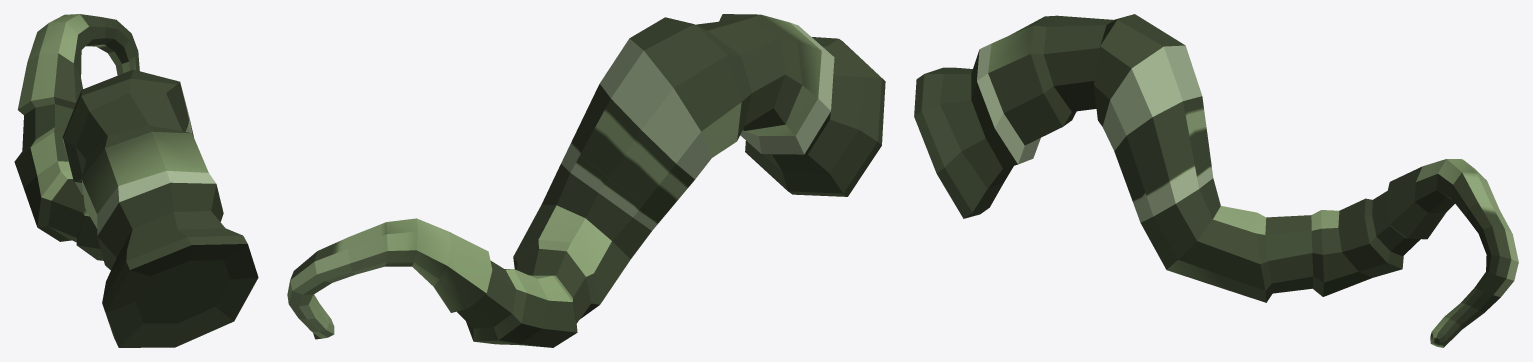
File: EA_Swamp_Root_01a.glb
3 renders of one model, left to right at view 1: azimuth 30°, elevation 25°; view 2: azimuth 150°, elevation 25°; view 3: azimuth 270°, elevation 25°, orthographic. The views are drawn at different scales.
Parts seen in each view (by area): view 1: EA_Swamp_Root_01a; view 2: EA_Swamp_Root_01a; view 3: EA_Swamp_Root_01a.
Boxes of the visible parts, <box> form: EA_Swamp_Root_01a: <box>14,14,258,347</box>; EA_Swamp_Root_01a: <box>287,14,885,347</box>; EA_Swamp_Root_01a: <box>914,14,1518,347</box>.
Bounding box in the file's own units: 2.5 × 1.95 × 4.31.
1 material, 1 textured.
